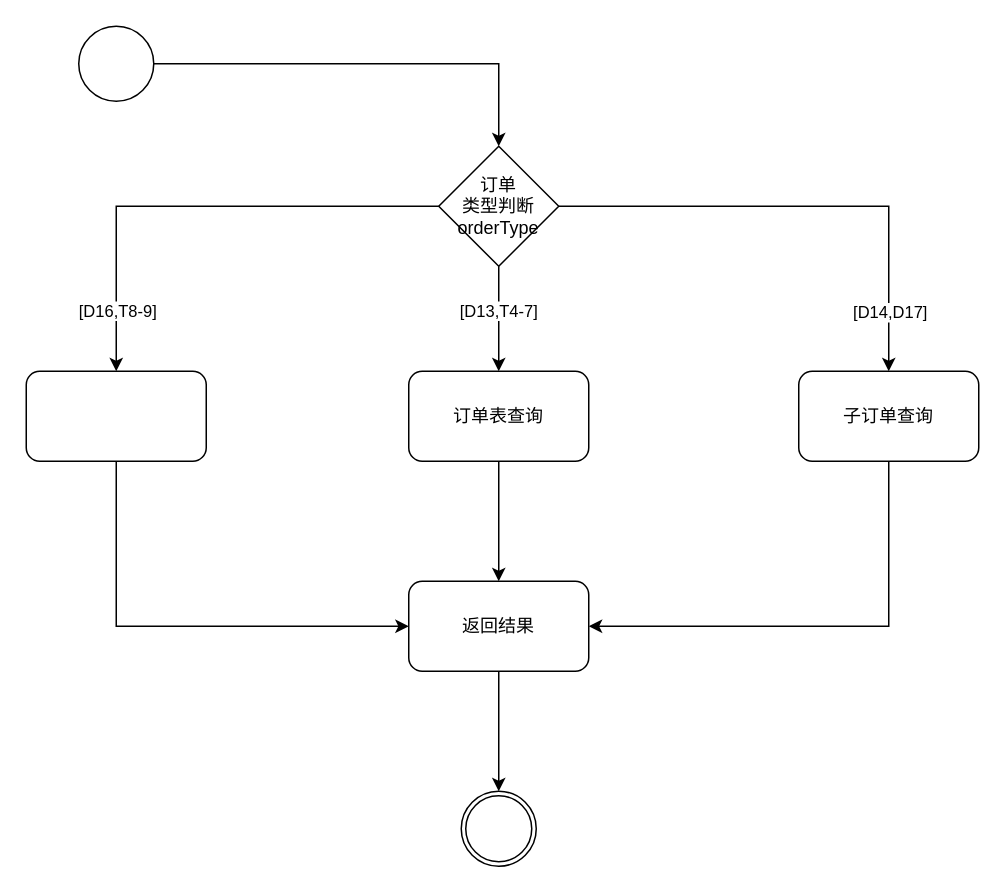
Image size: 1005x893. Some labels were removed from this diagram. Here are the shapes that lost their labels. From the top down, the box of each, then its label:
(77, 25, 154, 101): EXTQ004
(25, 370, 206, 461): 主主订单查询
